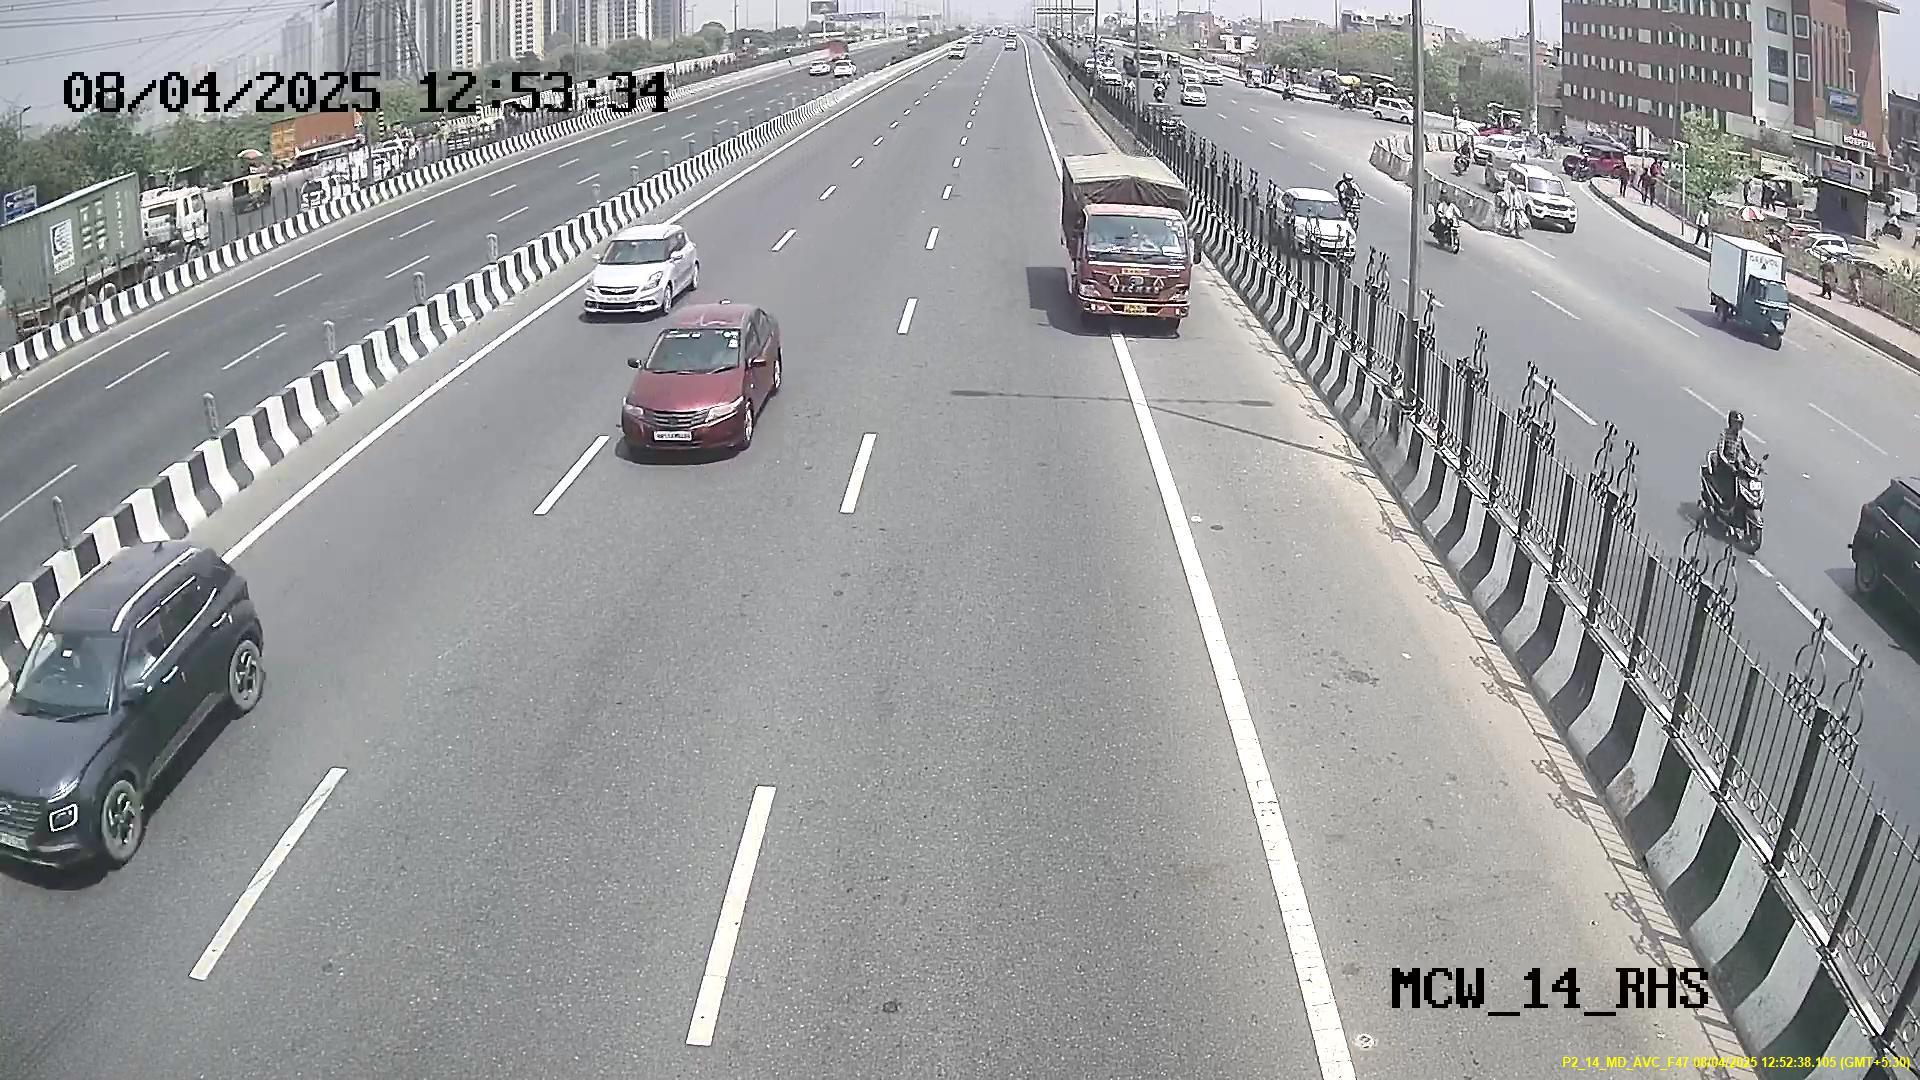car: (3, 578, 173, 876), (618, 320, 758, 462), (578, 229, 699, 310)
lcv: (1069, 203, 1196, 328)
